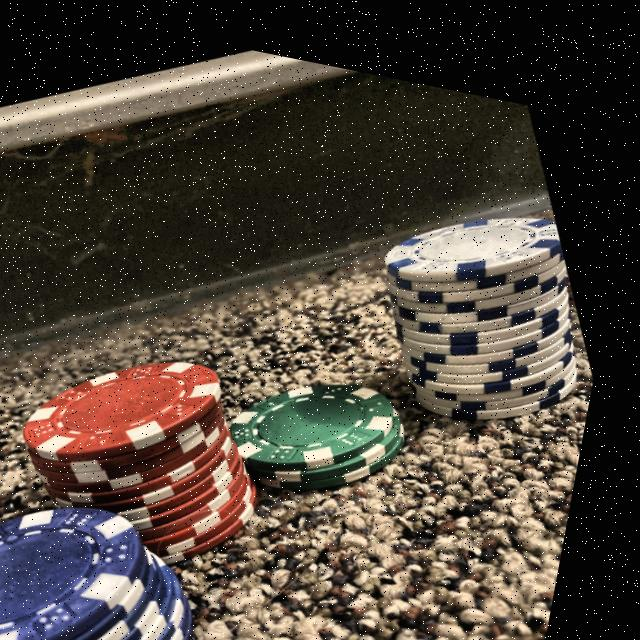Chip: (0, 271, 324, 621), (318, 127, 630, 465), (0, 401, 291, 640), (219, 305, 454, 526)
